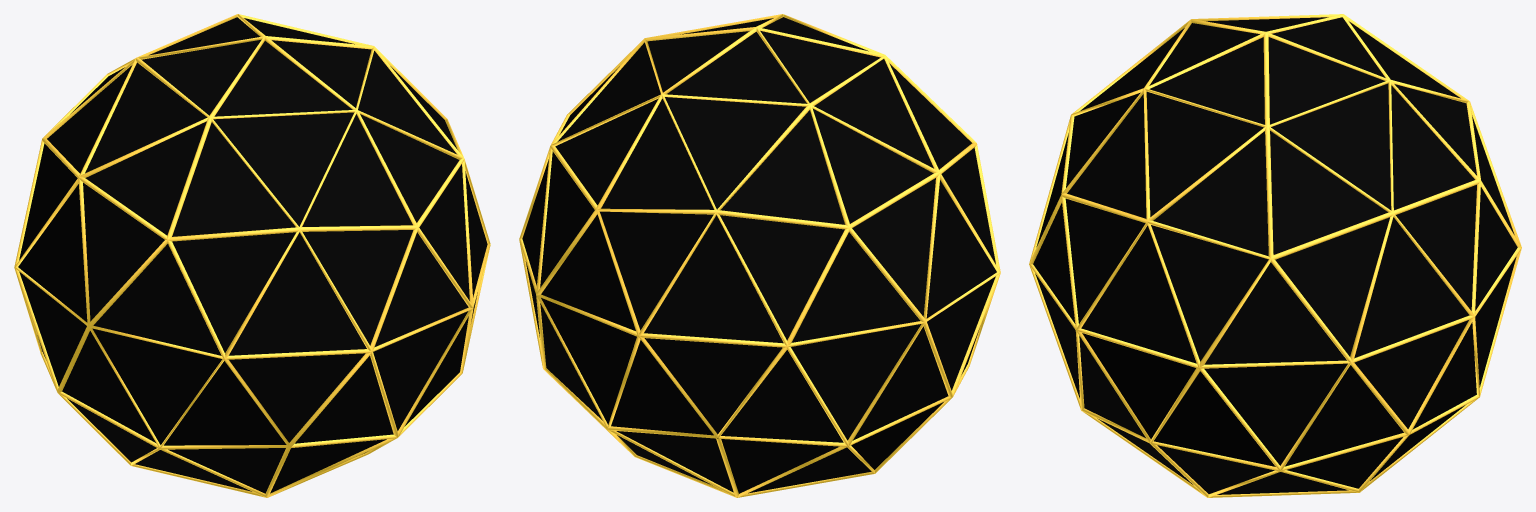
The model's file is orbe.fbx.
3 renders of one model, left to right at view 1: azimuth 30°, elevation 25°; view 2: azimuth 150°, elevation 25°; view 3: azimuth 270°, elevation 25°, orthographic. The views are drawn at different scales.
Visible parts, largest first — view 1: Sphere.001_0, Sphere.004_3; view 2: Sphere.001_0, Sphere.004_3; view 3: Sphere.001_0, Sphere.004_3.
Part boxes in pixels (x1,y1,x2,y2): Sphere.001_0: (18, 17, 487, 493); Sphere.004_3: (14, 14, 490, 497); Sphere.001_0: (522, 17, 996, 493); Sphere.004_3: (519, 14, 1000, 497); Sphere.001_0: (1033, 17, 1517, 494); Sphere.004_3: (1029, 14, 1521, 497).
Size of the model in its own units: 191 by 201 by 197.
